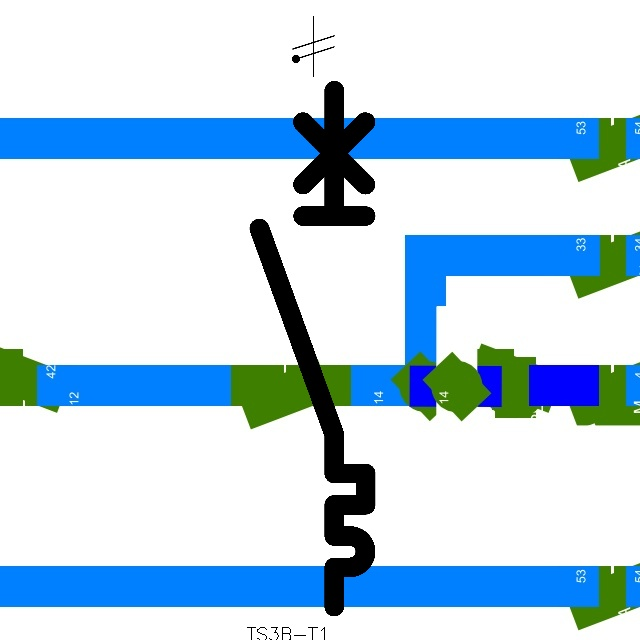interruptor_termomagnetico: (246, 77, 379, 620)
